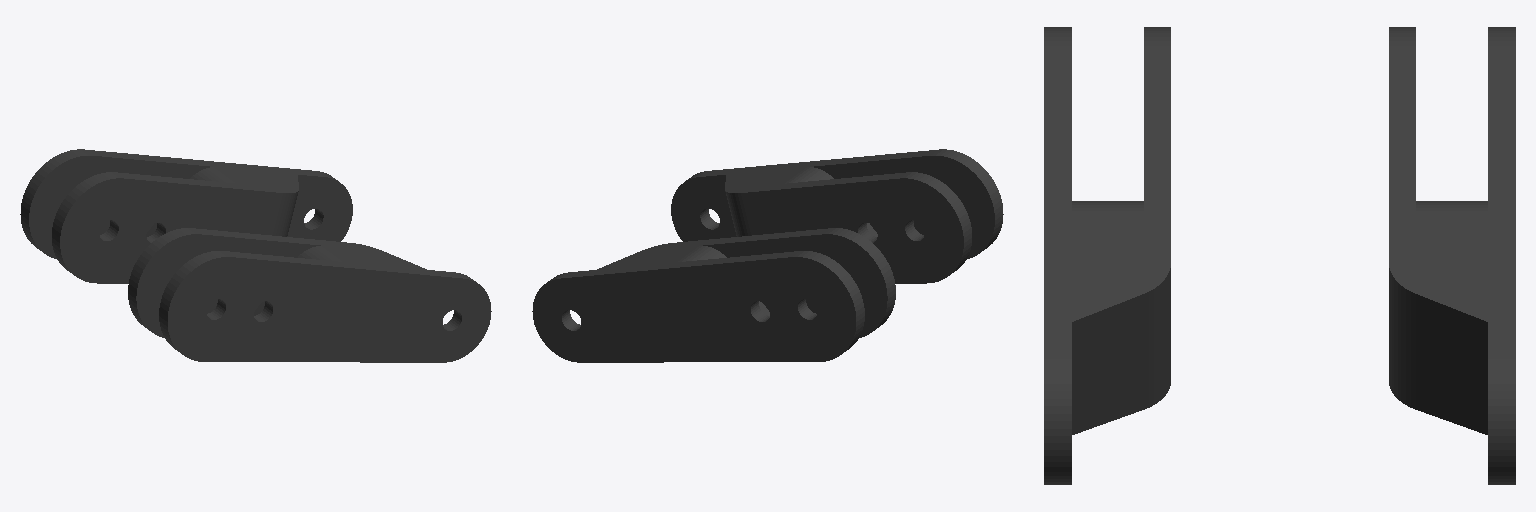
The robot description file, URDF, robot "echo_bot":
<?xml version="1.0" encoding="utf-8"?>
<!-- =================================================================================== -->
<!-- |    This document was autogenerated by xacro from echo_bot.urdf.xacro            | -->
<!-- |    EDITING THIS FILE BY HAND IS NOT RECOMMENDED                                 | -->
<!-- =================================================================================== -->
<robot name="echo_bot">
  <!-- == Material == -->
  <material name="base_color">
    <color rgba="0.3 0.3 0.3 1"/>
  </material>
  <!-- == Material == -->
  <material name="leg_color_0">
    <color rgba="0.3 0.3 0.3 1"/>
  </material>
  <!-- == echo_bot base == -->
  <link name="base_footprint"/>
  <link name="base_link">
    <visual>
      <origin rpy="0 0 0"/>
      <material name="base_color"/>
      <geometry>
        <mesh filename="package://echo_bot_description/meshes/DAE/body.dae"/>
      </geometry>
    </visual>
    <collision>
      <origin rpy="0 0 0"/>
      <geometry>
        <mesh filename="package://echo_bot_description/meshes/STL/body.stl"/>
      </geometry>
    </collision>
    <inertial>
      <mass value="2.915"/>
      <origin rpy="0 0 0" xyz="0 0 0"/>
      <inertia ixx="0.006" ixy="0.0" ixz="0.002" iyy="0.008" iyz="0.0" izz="0.009"/>
    </inertial>
  </link>
  <joint name="base_link_joint" type="fixed">
    <origin xyz="0 0 0.090"/>
    <parent link="base_footprint"/>
    <child link="base_link"/>
  </joint>
  <!-- <link name="world"/>
  <xacro:base_v0 parent="world">
  <origin xyz="0 0 0.20"/>
  </xacro:base_v0> -->
  <!-- Link -->
  <link name="upper_leg_left">
    <visual>
      <origin rpy="0 0 0"/>
      <material name="leg_color_0"/>
      <geometry>
        <mesh filename="package://echo_bot_description/meshes/DAE/upper_leg.dae"/>
      </geometry>
    </visual>
    <collision>
      <origin rpy="0 0 0"/>
      <geometry>
        <mesh filename="package://echo_bot_description/meshes/STL/upper_leg.stl"/>
      </geometry>
    </collision>
    <inertial>
      <mass value="0.109"/>
      <origin rpy="0 0 0" xyz="0.0 0.0 0.0"/>
      <inertia ixx="0.000068" ixy="0.0" ixz="0.0" iyy="0.000086" iyz="0.0" izz="0.000136"/>
    </inertial>
  </link>
  <link name="lower_leg_left">
    <visual>
      <origin rpy="0 0 0"/>
      <material name="leg_color_0"/>
      <geometry>
        <mesh filename="package://echo_bot_description/meshes/DAE/lower_leg_left.dae"/>
      </geometry>
    </visual>
    <collision>
      <origin rpy="0 0 0"/>
      <geometry>
        <mesh filename="package://echo_bot_description/meshes/STL/lower_leg_left.stl"/>
      </geometry>
    </collision>
    <inertial>
      <mass value="0.152994"/>
      <origin rpy="0 0 0" xyz="0.0 0.0 0.0"/>
      <inertia ixx="0.000046" ixy="-0.000012" ixz="-0.000001" iyy="0.000243" iyz="0.0" izz="0.000238"/>
    </inertial>
  </link>
  <link name="upper_side_leg_left">
    <visual>
      <origin rpy="0 0 0"/>
      <material name="leg_color_0"/>
      <geometry>
        <mesh filename="package://echo_bot_description/meshes/DAE/upper_side_leg.dae"/>
      </geometry>
    </visual>
    <collision>
      <origin rpy="0 0 0"/>
      <geometry>
        <mesh filename="package://echo_bot_description/meshes/STL/upper_side_leg.stl"/>
      </geometry>
    </collision>
    <inertial>
      <mass value="0.041157"/>
      <origin rpy="0 0 0" xyz="0.0 0.0 0.0"/>
      <inertia ixx="0.000003" ixy="0.0" ixz="0.0" iyy="0.000043" iyz="0.0" izz="0.000043"/>
    </inertial>
  </link>
  <!-- Joint -->
  <joint name="upper_leg_left_joint" type="revolute">
    <origin rpy="0.0 2.79252688 0.0" xyz="0.0 0.0475 0.0"/>
    <parent link="base_link"/>
    <child link="upper_leg_left"/>
    <axis xyz="0 1 0"/>
    <limit effort="30" lower="0.0" upper="-0.52359879" velocity="3.14159274"/>
  </joint>
  <transmission name="upper_leg_left_joint_trans">
    <type>transmission_interface/SimpleTransmission</type>
    <joint name="upper_leg_left_joint">
      <hardwareInterface>hardware_interface/PositionJointInterface</hardwareInterface>
    </joint>
    <actuator name="upper_leg_left_joint_motor">
      <mechanicalReduction>1</mechanicalReduction>
    </actuator>
  </transmission>
  <joint name="lower_leg_left" type="revolute">
    <origin rpy="0.0 -2.52147723971 0.0" xyz="0.1 0.0 0.0"/>
    <parent link="upper_leg_left"/>
    <child link="lower_leg_left"/>
    <axis xyz="0 1 0"/>
    <limit effort="30" lower="0.0" upper="1.16465824189" velocity="3.14159274"/>
    <!-- <mimic joint="upper_leg_${prefix}_joint" multiplier="-2.186" offset="-0.02025"/> -->
  </joint>
  <transmission name="lower_leg_left_trans">
    <type>transmission_interface/SimpleTransmission</type>
    <joint name="lower_leg_left">
      <hardwareInterface>hardware_interface/PositionJointInterface</hardwareInterface>
    </joint>
    <actuator name="lower_leg_left_motor">
      <mechanicalReduction>1</mechanicalReduction>
    </actuator>
  </transmission>
  <joint name="upper_side_leg_left" type="revolute">
    <origin rpy="0.0 -0.94631754646 0.0" xyz="-0.025 0.0 0.0"/>
    <parent link="lower_leg_left"/>
    <child link="upper_side_leg_left"/>
    <axis xyz="0 1 0"/>
    <limit effort="30" lower="0.0" upper="-1.12975165589" velocity="3.14159274"/>
    <!-- <mimic joint="upper_leg_${prefix}_joint" multiplier="2.123937" offset="0.003625"/> -->
  </joint>
  <transmission name="upper_side_leg_left_trans">
    <type>transmission_interface/SimpleTransmission</type>
    <joint name="upper_side_leg_left">
      <hardwareInterface>hardware_interface/PositionJointInterface</hardwareInterface>
    </joint>
    <actuator name="upper_side_leg_left_motor">
      <mechanicalReduction>1</mechanicalReduction>
    </actuator>
  </transmission>
  <!-- Link -->
  <link name="upper_leg_right">
    <visual>
      <origin rpy="0 0 0"/>
      <material name="leg_color_0"/>
      <geometry>
        <mesh filename="package://echo_bot_description/meshes/DAE/upper_leg.dae"/>
      </geometry>
    </visual>
    <collision>
      <origin rpy="0 0 0"/>
      <geometry>
        <mesh filename="package://echo_bot_description/meshes/STL/upper_leg.stl"/>
      </geometry>
    </collision>
    <inertial>
      <mass value="0.109"/>
      <origin rpy="0 0 0" xyz="0.0 0.0 0.0"/>
      <inertia ixx="0.000068" ixy="0.0" ixz="0.0" iyy="0.000086" iyz="0.0" izz="0.000136"/>
    </inertial>
  </link>
  <link name="lower_leg_right">
    <visual>
      <origin rpy="0 0 0"/>
      <material name="leg_color_0"/>
      <geometry>
        <mesh filename="package://echo_bot_description/meshes/DAE/lower_leg_right.dae"/>
      </geometry>
    </visual>
    <collision>
      <origin rpy="0 0 0"/>
      <geometry>
        <mesh filename="package://echo_bot_description/meshes/STL/lower_leg_right.stl"/>
      </geometry>
    </collision>
    <inertial>
      <mass value="0.152994"/>
      <origin rpy="0 0 0" xyz="0.0 0.0 0.0"/>
      <inertia ixx="0.000046" ixy="-0.000012" ixz="-0.000001" iyy="0.000243" iyz="0.0" izz="0.000238"/>
    </inertial>
  </link>
  <link name="upper_side_leg_right">
    <visual>
      <origin rpy="0 0 0"/>
      <material name="leg_color_0"/>
      <geometry>
        <mesh filename="package://echo_bot_description/meshes/DAE/upper_side_leg.dae"/>
      </geometry>
    </visual>
    <collision>
      <origin rpy="0 0 0"/>
      <geometry>
        <mesh filename="package://echo_bot_description/meshes/STL/upper_side_leg.stl"/>
      </geometry>
    </collision>
    <inertial>
      <mass value="0.041157"/>
      <origin rpy="0 0 0" xyz="0.0 0.0 0.0"/>
      <inertia ixx="0.000003" ixy="0.0" ixz="0.0" iyy="0.000043" iyz="0.0" izz="0.000043"/>
    </inertial>
  </link>
  <!-- Joint -->
  <joint name="upper_leg_right_joint" type="revolute">
    <origin rpy="0.0 2.79252688 0.0" xyz="0.0 -0.0475 0.0"/>
    <parent link="base_link"/>
    <child link="upper_leg_right"/>
    <axis xyz="0 1 0"/>
    <limit effort="30" lower="0.0" upper="-0.52359879" velocity="3.14159274"/>
  </joint>
  <transmission name="upper_leg_right_joint_trans">
    <type>transmission_interface/SimpleTransmission</type>
    <joint name="upper_leg_right_joint">
      <hardwareInterface>hardware_interface/PositionJointInterface</hardwareInterface>
    </joint>
    <actuator name="upper_leg_right_joint_motor">
      <mechanicalReduction>1</mechanicalReduction>
    </actuator>
  </transmission>
  <joint name="lower_leg_right" type="revolute">
    <origin rpy="0.0 -2.52147723971 0.0" xyz="0.1 0.0 0.0"/>
    <parent link="upper_leg_right"/>
    <child link="lower_leg_right"/>
    <axis xyz="0 1 0"/>
    <limit effort="30" lower="0.0" upper="1.16465824189" velocity="3.14159274"/>
    <!-- <mimic joint="upper_leg_${prefix}_joint" multiplier="-2.186" offset="-0.02025"/> -->
  </joint>
  <transmission name="lower_leg_right_trans">
    <type>transmission_interface/SimpleTransmission</type>
    <joint name="lower_leg_right">
      <hardwareInterface>hardware_interface/PositionJointInterface</hardwareInterface>
    </joint>
    <actuator name="lower_leg_right_motor">
      <mechanicalReduction>1</mechanicalReduction>
    </actuator>
  </transmission>
  <joint name="upper_side_leg_right" type="revolute">
    <origin rpy="0.0 -0.94631754646 0.0" xyz="-0.025 0.0 0.0"/>
    <parent link="lower_leg_right"/>
    <child link="upper_side_leg_right"/>
    <axis xyz="0 1 0"/>
    <limit effort="30" lower="0.0" upper="-1.12975165589" velocity="3.14159274"/>
    <!-- <mimic joint="upper_leg_${prefix}_joint" multiplier="2.123937" offset="0.003625"/> -->
  </joint>
  <transmission name="upper_side_leg_right_trans">
    <type>transmission_interface/SimpleTransmission</type>
    <joint name="upper_side_leg_right">
      <hardwareInterface>hardware_interface/PositionJointInterface</hardwareInterface>
    </joint>
    <actuator name="upper_side_leg_right_motor">
      <mechanicalReduction>1</mechanicalReduction>
    </actuator>
  </transmission>
  <link name="wheel_left_link">
    <visual>
      <geometry>
        <mesh filename="package://echo_bot_description/meshes/DAE/tyre.dae"/>
      </geometry>
    </visual>
    <collision>
      <origin rpy="-1.57079637 0 0" xyz="0 -0.003 0"/>
      <geometry>
        <cylinder length="0.02" radius="0.029"/>
      </geometry>
    </collision>
    <inertial>
      <origin rpy="0 0 0" xyz="0.0 0.0 0.0"/>
      <cylinder_inertial length="0.02" mass="0.039831" radius="0.029"/>
    </inertial>
  </link>
  <joint name="wheel_left_joint" type="continuous">
    <origin rpy="-1.57079637 0.0 3.14159274" xyz="0.1 0.0305 0.0"/>
    <parent link="lower_leg_left"/>
    <child link="wheel_left_link"/>
    <axis xyz="0 0 1"/>
    <limit effort="0.4" velocity="12.0"/>
    <dynamics damping="0.1"/>
  </joint>
  <transmission name="wheel_left_trans">
    <type>transmission_interface/SimpleTransmission</type>
    <joint name="wheel_left_joint">
      <hardwareInterface>hardware_interface/VelocityJointInterface</hardwareInterface>
    </joint>
    <actuator name="wheel_left_motor">
      <hardwareInterface>hardware_interface/VelocityJointInterface</hardwareInterface>
      <mechanicalReduction>1</mechanicalReduction>
    </actuator>
  </transmission>
  <link name="wheel_right_link">
    <visual>
      <geometry>
        <mesh filename="package://echo_bot_description/meshes/DAE/tyre.dae"/>
      </geometry>
    </visual>
    <collision>
      <origin rpy="-1.57079637 0 0" xyz="0 -0.003 0"/>
      <geometry>
        <cylinder length="0.02" radius="0.029"/>
      </geometry>
    </collision>
    <inertial>
      <origin rpy="0 0 0" xyz="0.0 0.0 0.0"/>
      <cylinder_inertial length="0.02" mass="0.039831" radius="0.029"/>
    </inertial>
  </link>
  <joint name="wheel_right_joint" type="continuous">
    <origin rpy="-1.57079637 0.0 0.0" xyz="0.1 -0.0305 0.0"/>
    <parent link="lower_leg_right"/>
    <child link="wheel_right_link"/>
    <axis xyz="0 0 1"/>
    <limit effort="0.4" velocity="12.0"/>
    <dynamics damping="0.1"/>
  </joint>
  <transmission name="wheel_right_trans">
    <type>transmission_interface/SimpleTransmission</type>
    <joint name="wheel_right_joint">
      <hardwareInterface>hardware_interface/VelocityJointInterface</hardwareInterface>
    </joint>
    <actuator name="wheel_right_motor">
      <hardwareInterface>hardware_interface/VelocityJointInterface</hardwareInterface>
      <mechanicalReduction>1</mechanicalReduction>
    </actuator>
  </transmission>
  <!-- == Sensor == -->
  <!-- == Gazebo == -->
  <gazebo>
    <plugin filename="libgazebo_ros_control.so" name="gazebo_ros_control">
      <robotNamespace>echo_bot</robotNamespace>
      <robotSimType>gazebo_ros_control/DefaultRobotHWSim</robotSimType>
      <legacyModeNS>true</legacyModeNS>
    </plugin>
  </gazebo>
  <plugin filename="libgazebo_ros_joint_state_publisher.so" name="joint_state_publisher">
    <jointName>upper_leg_left_joint, upper_leg_right_joint, wheel_left_joint, wheel_right_joint</jointName>
  </plugin>
  <gazebo reference="base_link">
    <selfCollide>true</selfCollide>
    <mu1 value="0.05"/>
    <mu2 value="0.05"/>
  </gazebo>
  <gazebo reference="upper_leg_left">
    <selfCollide>true</selfCollide>
    <mu1 value="0.05"/>
    <mu2 value="0.05"/>
  </gazebo>
  <gazebo reference="lower_leg_left">
    <selfCollide>true</selfCollide>
    <mu1 value="0.05"/>
    <mu2 value="0.05"/>
  </gazebo>
  <gazebo reference="upper_side_leg_left">
    <selfCollide>true</selfCollide>
    <mu1 value="0.05"/>
    <mu2 value="0.05"/>
  </gazebo>
  <gazebo reference="upper_leg_right">
    <selfCollide>true</selfCollide>
    <mu1 value="0.05"/>
    <mu2 value="0.05"/>
  </gazebo>
  <gazebo reference="lower_leg_right">
    <selfCollide>true</selfCollide>
    <mu1 value="0.05"/>
    <mu2 value="0.05"/>
  </gazebo>
  <gazebo reference="upper_side_leg_right">
    <selfCollide>true</selfCollide>
    <mu1 value="0.05"/>
    <mu2 value="0.05"/>
  </gazebo>
  <!-- <gazebo>
    <plugin name="left_leg_ClosedLoopPlugin" filename="libpegasus_gazebo_closed_loop_plugin.so">
      <joint>base_back_joint_left</joint>
      <child>side_leg_left</child>
      <parent>upper_side_leg_left_opposite</parent>
      <position>0.0 0.0 0.0</position>
      <rotation>0.00 -0.00 0.00</rotation>
    </plugin>
  </gazebo>

  <gazebo>
    <plugin name="right_leg_ClosedLoopPlugin" filename="libpegasus_gazebo_closed_loop_plugin.so">
      <joint>base_back_joint_right</joint>
      <child>side_leg_right</child>
      <parent>upper_side_leg_right_opposite</parent>
      <position>0.0 0.0 0.0</position>
      <rotation>0.00 -0.00 0.00</rotation>
    </plugin>
  </gazebo> -->
  <gazebo reference="wheel_left_link">
    <selfCollide>true</selfCollide>
    <!-- <mu1 value="0.8" />
      <mu2 value="0.8" /> -->
    <mu1 value="2.5"/>
    <mu2 value="2.5"/>
    <kp value="50000"/>
    <kd value="10"/>
  </gazebo>
  <gazebo reference="wheel_right_link">
    <selfCollide>true</selfCollide>
    <!-- <mu1 value="0.8" />
      <mu2 value="0.8" /> -->
    <mu1 value="2.5"/>
    <mu2 value="2.5"/>
    <kp value="50000"/>
    <kd value="10"/>
  </gazebo>
</robot>

--- Facts derived from the render (not from the file) ---
Views: 3 orthographic renders of the robot side by side, from view 1: azimuth 30°, elevation 25°; view 2: azimuth 150°, elevation 25°; view 3: azimuth 270°, elevation 25°.
Model echo_bot with 10 links and 9 joints (6 revolute, 2 continuous, 1 fixed), rooted at base_footprint, posed every joint at zero.
Links seen in each view (by area): view 1: lower_leg_right, lower_leg_left; view 2: lower_leg_left, lower_leg_right; view 3: lower_leg_left, lower_leg_right.
Link boxes in pixels (<box>): lower_leg_right: <box>128,228,491,362</box>; lower_leg_left: <box>20,149,352,283</box>; lower_leg_left: <box>532,228,895,362</box>; lower_leg_right: <box>671,149,1003,283</box>; lower_leg_left: <box>1389,27,1515,484</box>; lower_leg_right: <box>1044,27,1170,484</box>.
Size in the robot's own frame: 0.1654 by 0.13 by 0.0785 metres.
2 mesh visuals loaded from 6 distinct referenced files (2 Collada DAE); not drawn: 7 (reference not matched to a file when rendering).